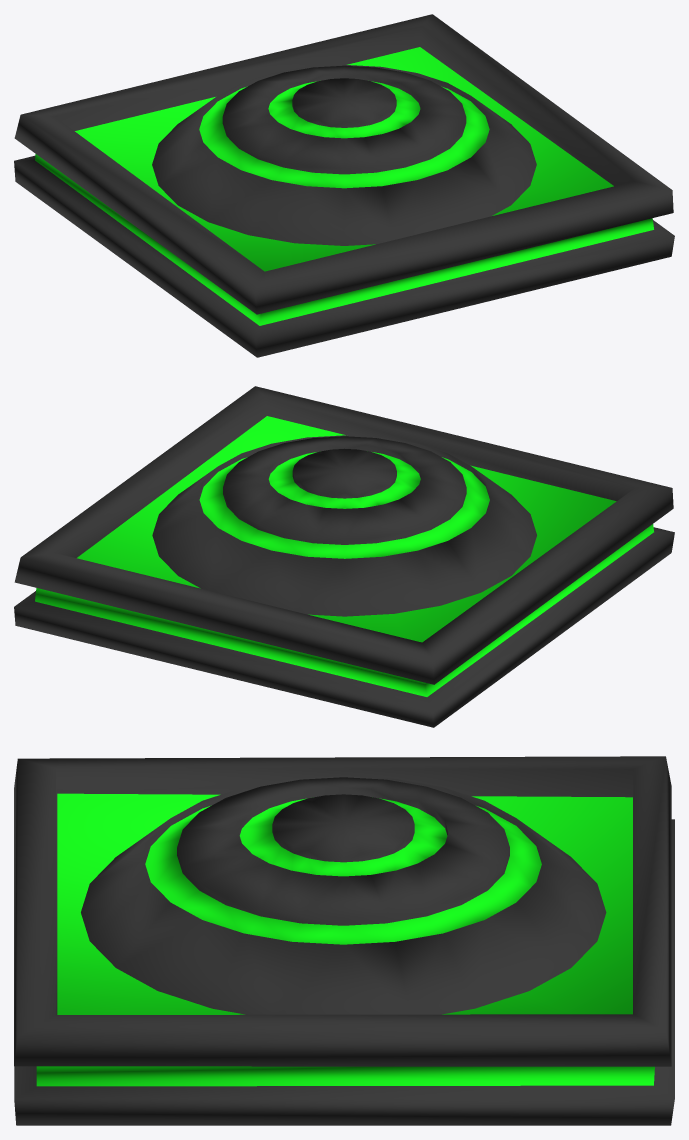
Rendered from Platform_Vertical_Switch_lowres_uv.fbx.
3 renders of one model, top to bottom at view 1: azimuth 30°, elevation 25°; view 2: azimuth 150°, elevation 25°; view 3: azimuth 270°, elevation 25°, orthographic. The views are drawn at different scales.
Parts seen in each view (by area): view 1: uvit, Empty_Mesh; view 2: uvit, Empty_Mesh; view 3: uvit, Empty_Mesh.
Part boxes in pixels (<box>): uvit: <box>14,14,674,357</box>; Empty_Mesh: <box>152,64,536,245</box>; uvit: <box>14,386,674,727</box>; Empty_Mesh: <box>152,435,536,616</box>; uvit: <box>14,756,674,1125</box>; Empty_Mesh: <box>81,776,606,1014</box>.
Bounding box in the file's own units: 3.08 × 0.8787 × 3.08.
